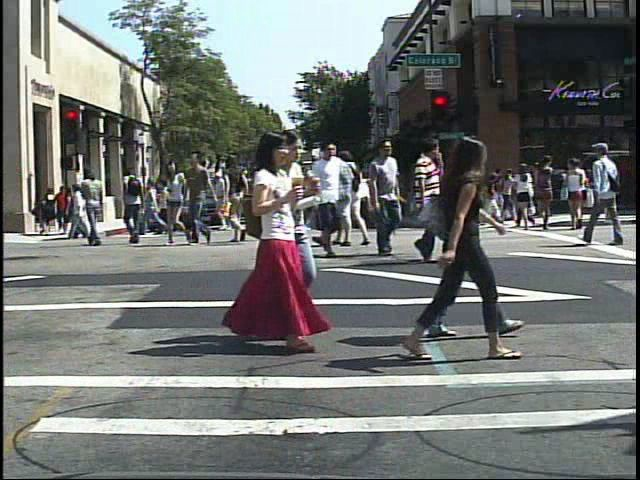person: (409, 131, 526, 367), (239, 127, 326, 354), (423, 129, 495, 342), (408, 132, 464, 265), (364, 135, 408, 262), (276, 133, 314, 280), (582, 135, 629, 248), (313, 135, 352, 261), (322, 139, 358, 248), (158, 156, 195, 249), (220, 147, 255, 245), (184, 148, 217, 248), (342, 145, 372, 249), (252, 151, 281, 246), (77, 164, 108, 246), (120, 164, 149, 246), (512, 160, 540, 234), (303, 163, 324, 232), (55, 183, 75, 233)
